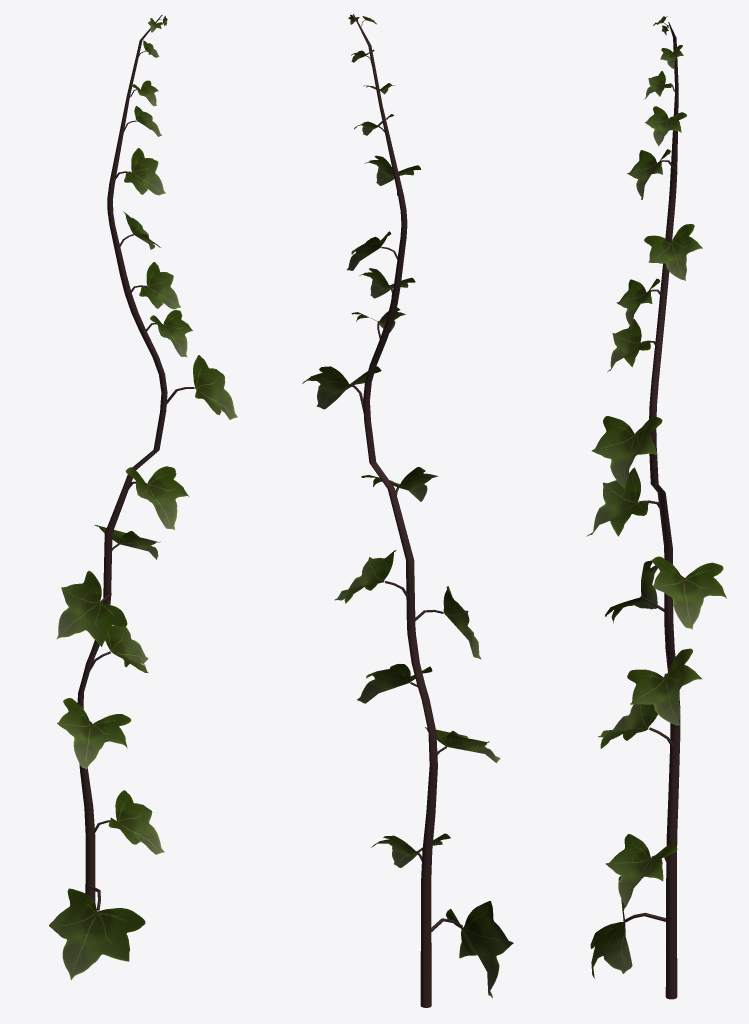
Rendered from ivy_trail.fbx.
The picture shows the model from 3 angles, left to right: view 1: azimuth 30°, elevation 25°; view 2: azimuth 150°, elevation 25°; view 3: azimuth 270°, elevation 25°; orthographic projection. The views are drawn at different scales.
Parts seen in each view (by area): view 1: polySurface148; view 2: polySurface148; view 3: polySurface148.
Boxes of the visible parts, x1,y1,x2,y2 form: polySurface148: (49, 15, 237, 980); polySurface148: (302, 14, 513, 1007); polySurface148: (586, 16, 726, 999).
Size of the model in its own units: 50 by 189 by 27.64.
